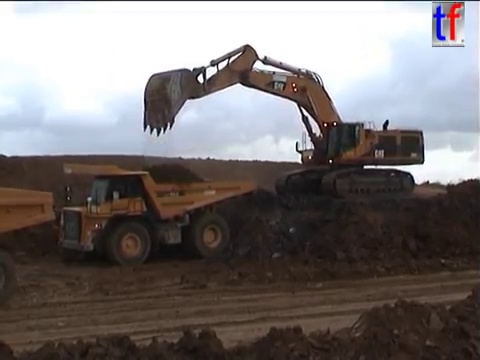excavator: (139, 41, 428, 204)
truck: (56, 160, 258, 268), (1, 183, 57, 305)
